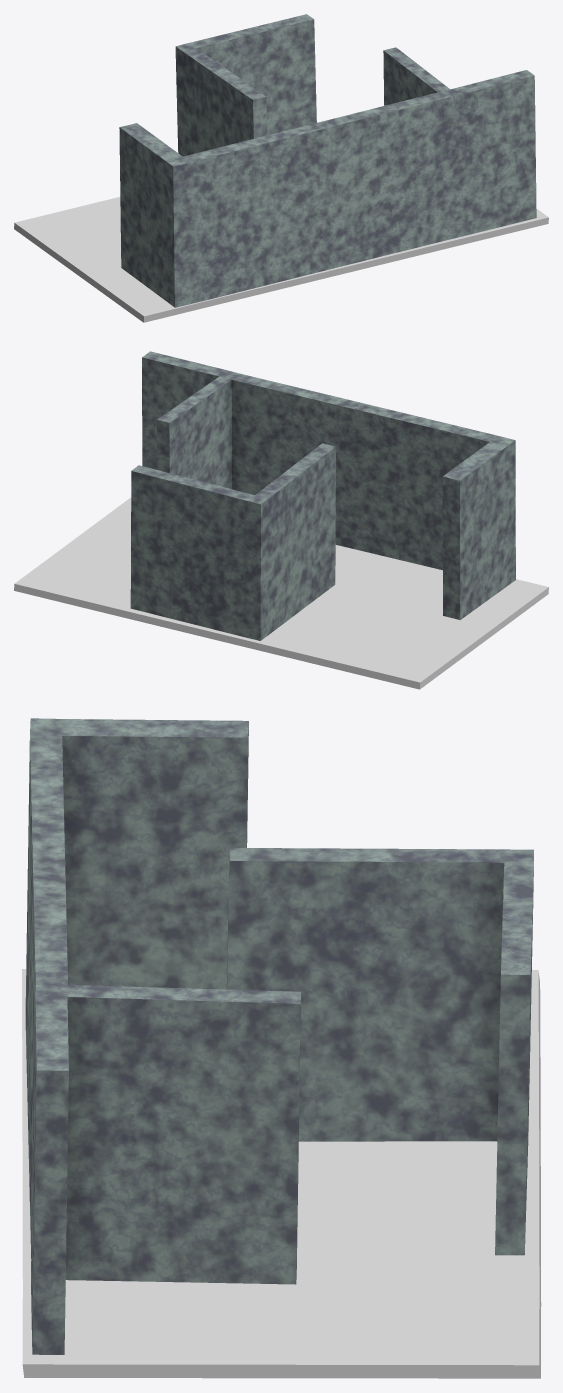
File: Roof3.fbx
The picture shows the model from 3 angles, top to bottom: view 1: azimuth 30°, elevation 25°; view 2: azimuth 150°, elevation 25°; view 3: azimuth 270°, elevation 25°; orthographic projection. The views are drawn at different scales.
Parts seen in each view (by area): view 1: Cube.275, Cube.276, Cube.214; view 2: Cube.275, Cube.276, Cube.214; view 3: Cube.275, Cube.214, Cube.276.
Part boxes in pixels (x1,y1,x2,y2): Cube.275: [119, 47, 536, 307]; Cube.276: [175, 14, 316, 156]; Cube.214: [14, 197, 548, 322]; Cube.275: [142, 351, 515, 619]; Cube.276: [130, 443, 335, 640]; Cube.214: [14, 497, 548, 689]; Cube.275: [25, 718, 300, 1354]; Cube.214: [21, 969, 541, 1378]; Cube.276: [226, 848, 533, 1255].
Size of the model in its own units: 863 by 304 by 478.
Materials: 3 (2 with a texture image).
